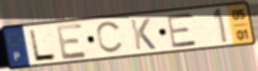1: (211, 7, 230, 46)
C: (94, 20, 125, 56)
E: (54, 22, 90, 62), (165, 11, 200, 49)
K: (128, 17, 158, 52)
L: (27, 28, 59, 62)
